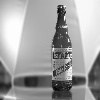beer: (48, 3, 75, 95)
